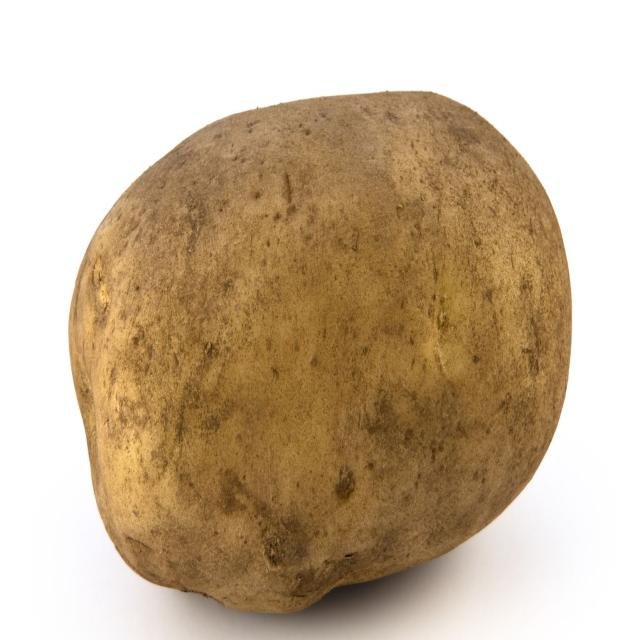potato: (69, 90, 572, 617)
